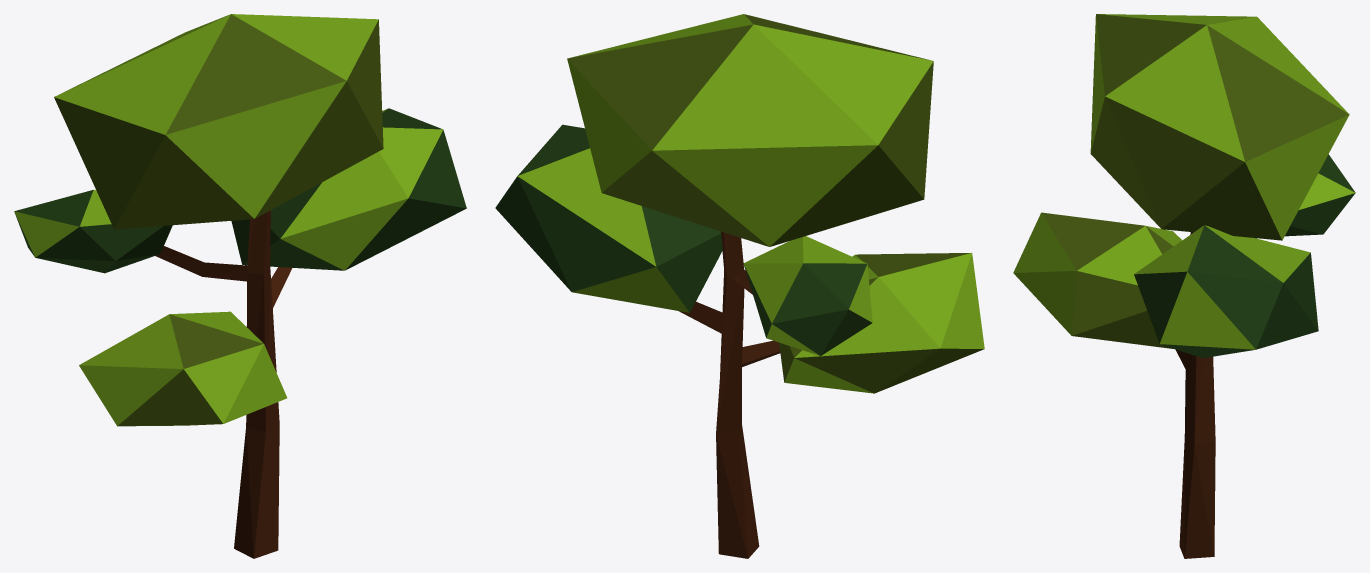
The model's file is Tree3_M2_7_big.fbx.
The picture shows the model from 3 angles, left to right: view 1: azimuth 30°, elevation 25°; view 2: azimuth 150°, elevation 25°; view 3: azimuth 270°, elevation 25°; orthographic projection. The views are drawn at different scales.
Parts seen in each view (by area): view 1: Tree3_M2_7_big; view 2: Tree3_M2_7_big; view 3: Tree3_M2_7_big.
Part boxes in pixels (x1=…): Tree3_M2_7_big: x1=14, y1=14, x2=466, y2=558; Tree3_M2_7_big: x1=495, y1=14, x2=984, y2=558; Tree3_M2_7_big: x1=1013, y1=14, x2=1355, y2=558.
Bounding box in the file's own units: 639 × 805 × 483.
